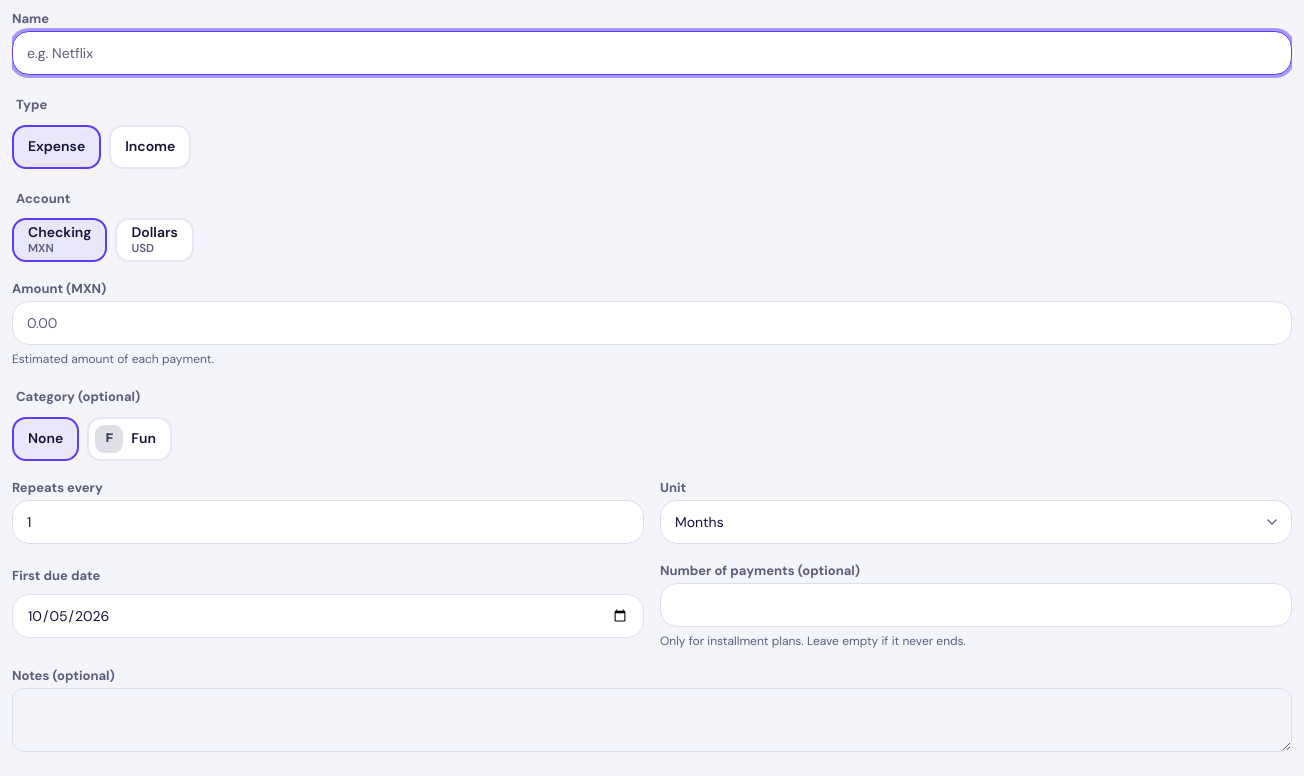
it: RecurringForm › hides archived accounts and filters categories by type
Expected: the radio button labelled "Salary" is not shown
What coordinates should you click on to do the following:
click the radio button labelled "Income"
I would click on:
 (150, 146)
Its box is [109,124,191,168].
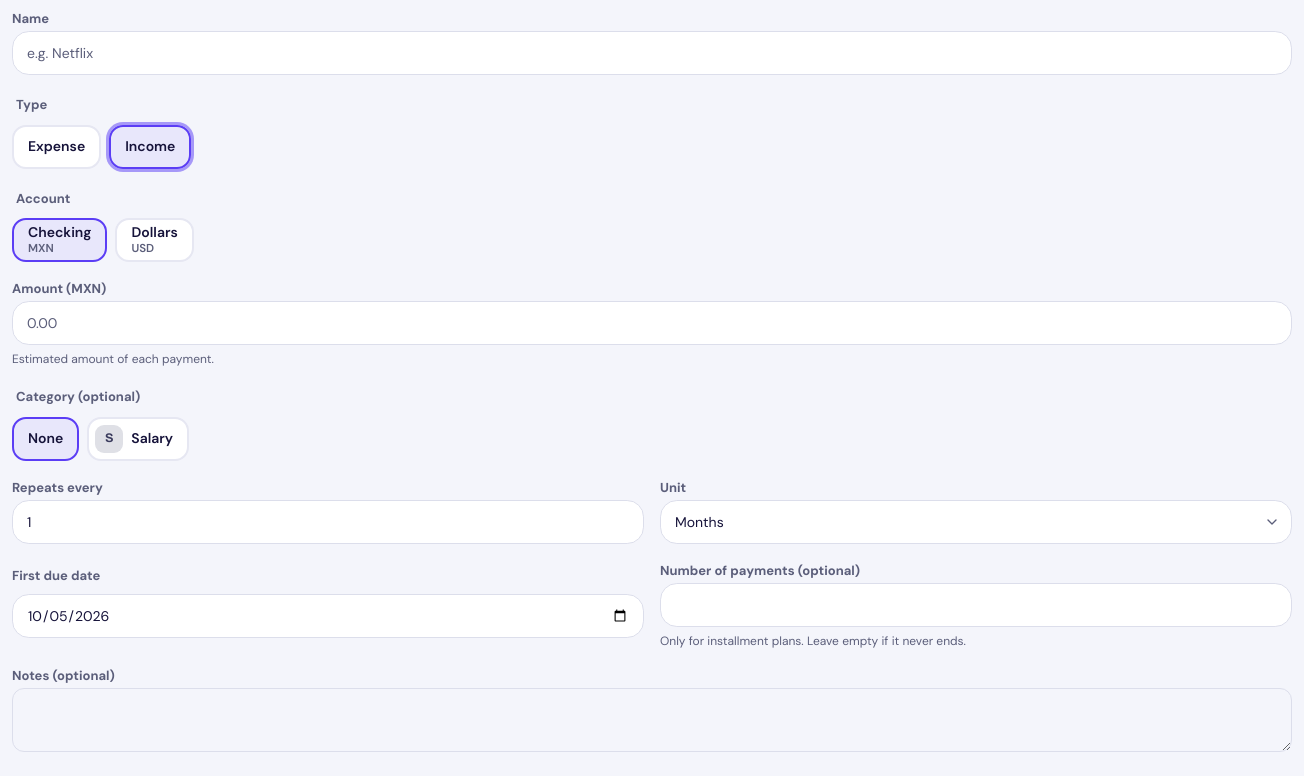
Now the radio button labelled "Salary" is shown, box [87,416,189,460]
Now the text "Fun" is gone
